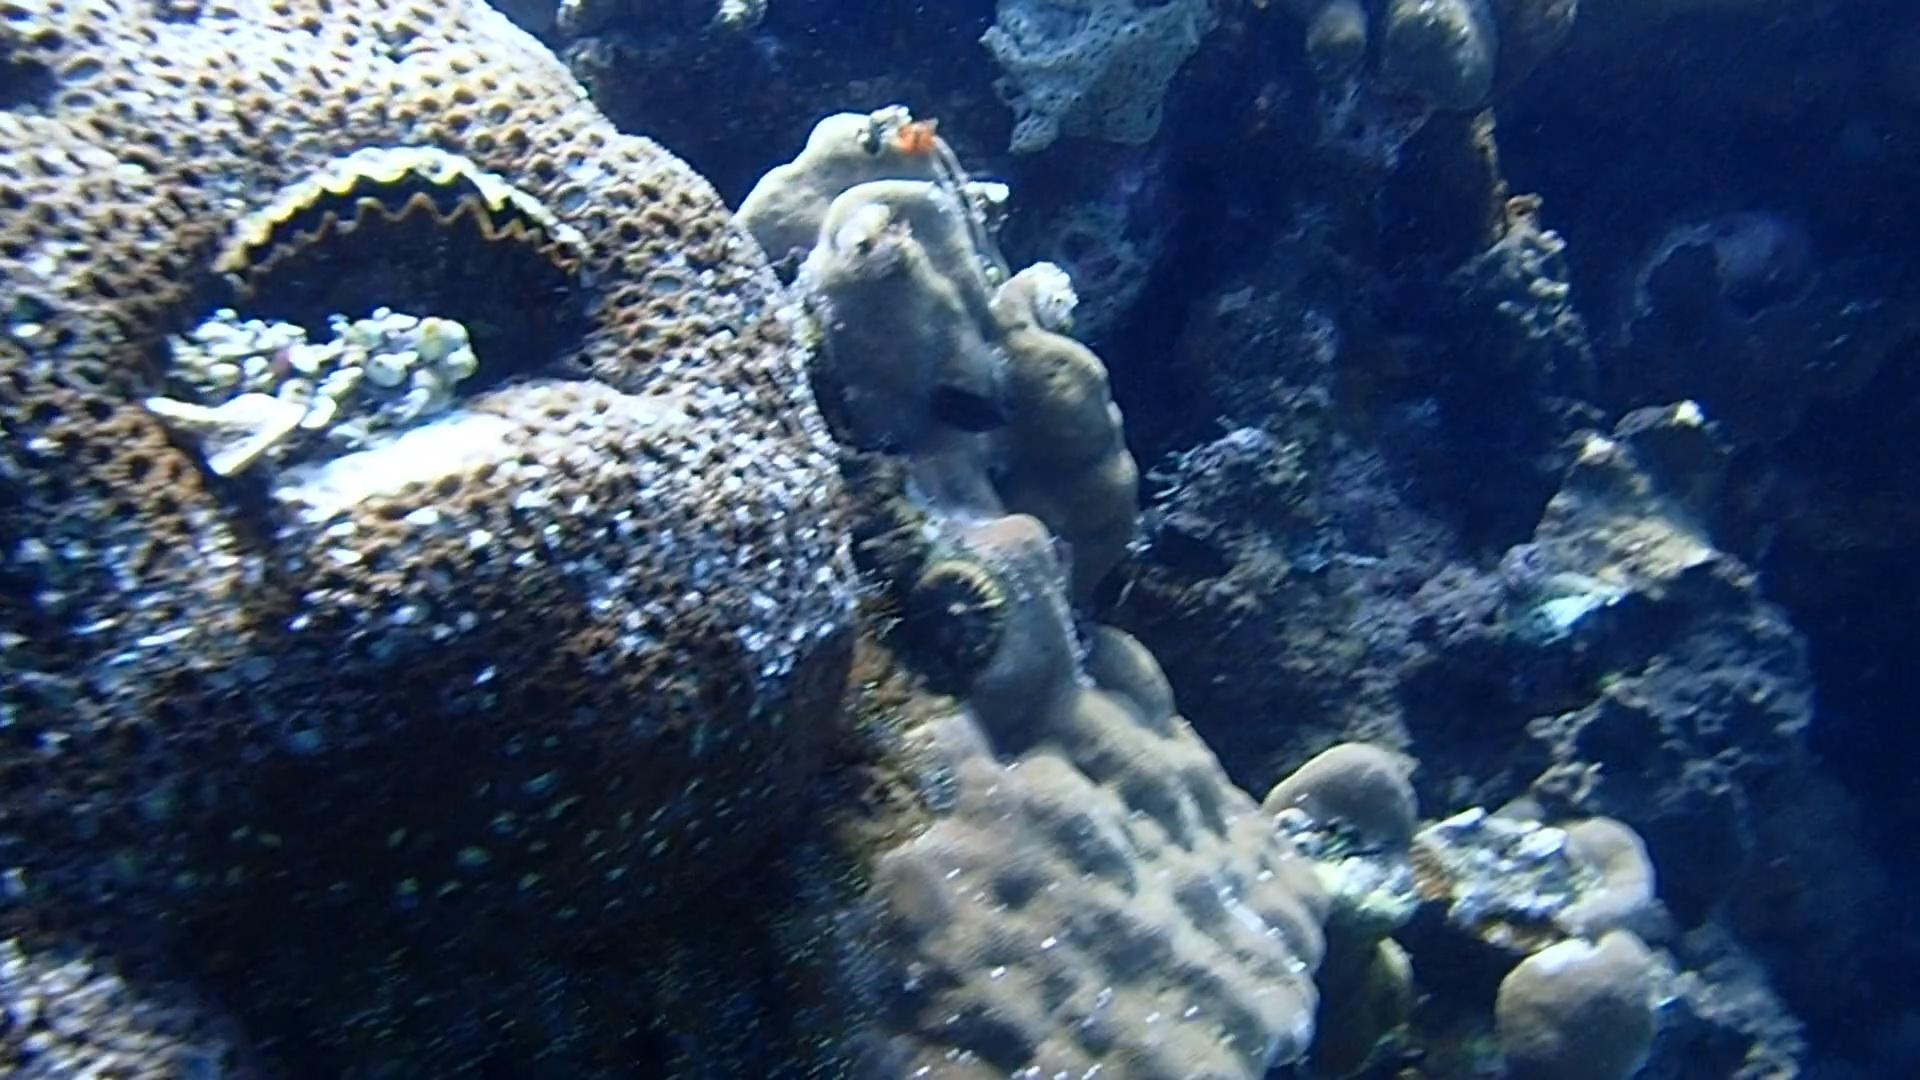Dark Fish: (915, 360, 1017, 448), (1138, 506, 1234, 595)
